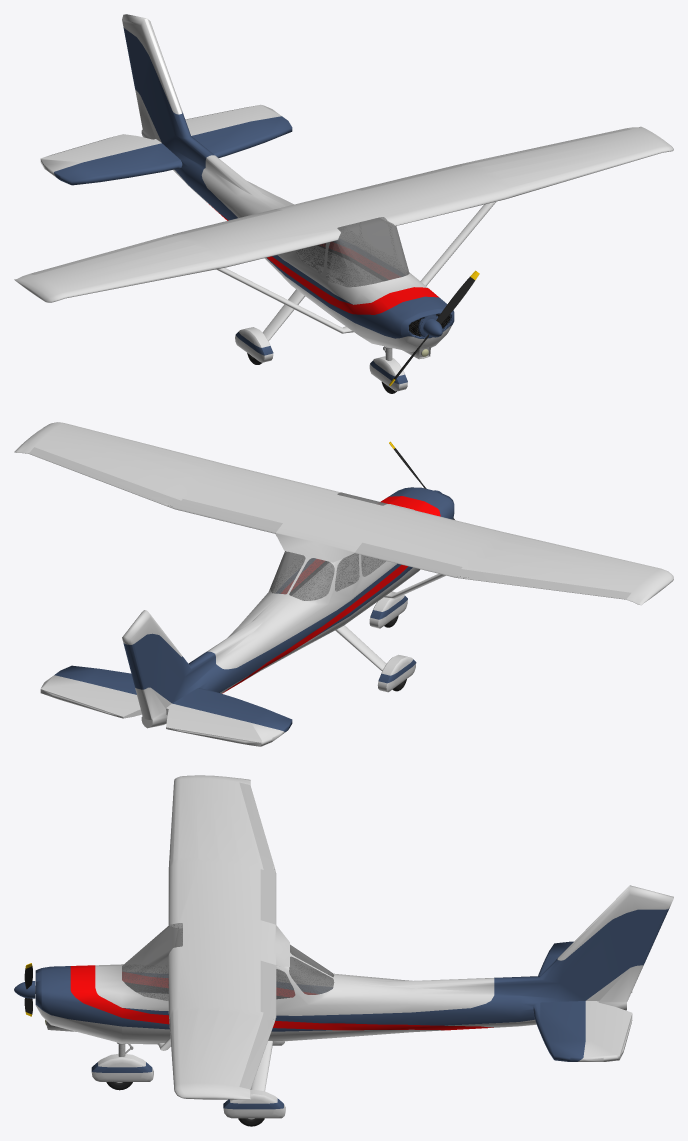
The model's file is airplane.dae.
3 renders of one model, top to bottom at view 1: azimuth 30°, elevation 25°; view 2: azimuth 150°, elevation 25°; view 3: azimuth 270°, elevation 25°, orthographic. The views are drawn at different scales.
Parts seen in each view (by area): view 1: group_0 (×12); view 2: group_0 (×12); view 3: group_0 (×11), group_6 (×2), group_9.
Boxes of the visible parts, x1,y1,x2,y2 form: group_0 (×12): (14, 14, 673, 351); group_0 (×12): (14, 422, 673, 746); group_0 (×11): (35, 775, 673, 1099); group_6 (×2): (91, 1053, 153, 1081); group_9: (223, 1104, 285, 1118).
Bounding box in the file's own units: 437 × 381 × 130.
20 materials, 2 textured.
